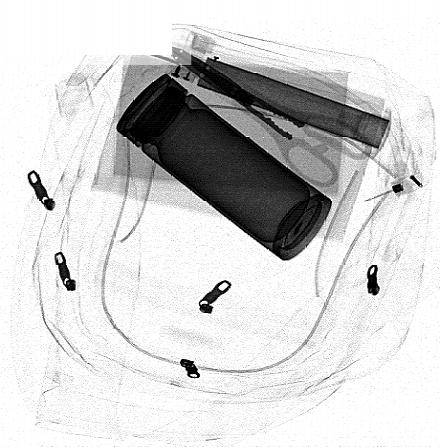Scissors: (167, 47, 378, 188)
